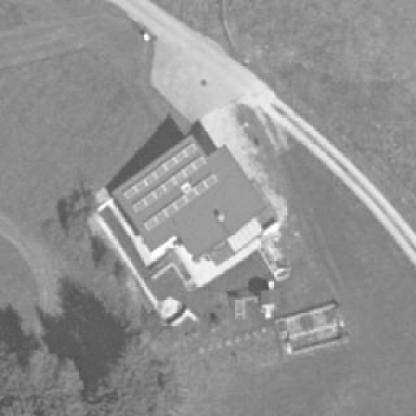solar-pv-panel: (122, 143, 197, 198), (143, 175, 218, 230), (132, 157, 207, 212)
